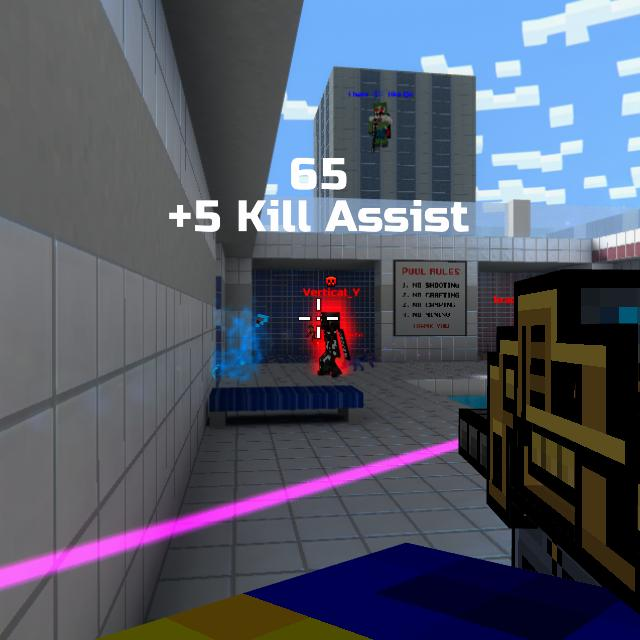Enemy: (317, 311, 343, 378)
